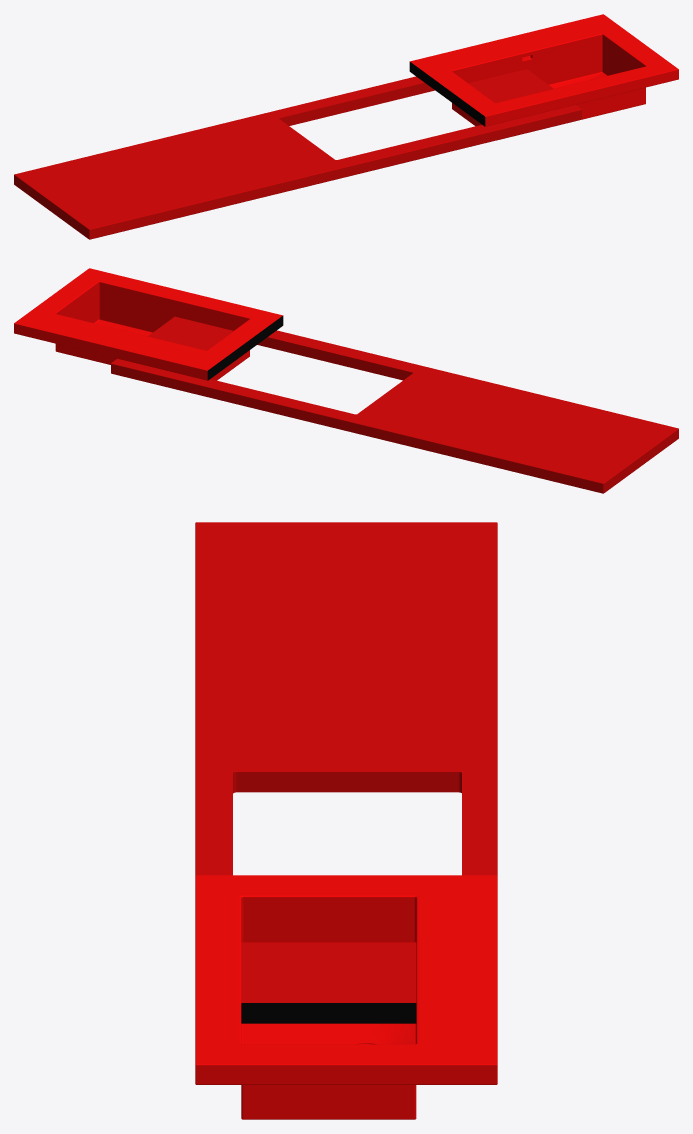
The model's file is SinkArea.dae.
The picture shows the model from 3 angles, top to bottom: view 1: azimuth 30°, elevation 25°; view 2: azimuth 150°, elevation 25°; view 3: azimuth 270°, elevation 25°; orthographic projection. The views are drawn at different scales.
Visible parts, largest first — view 1: HobSlabMESH, HobSlabMESH_001; view 2: HobSlabMESH, HobSlabMESH_001; view 3: HobSlabMESH, HobSlabMESH_001.
Part boxes in pixels (<box>): HobSlabMESH: <box>14,69,581,239</box>; HobSlabMESH_001: <box>409,14,678,126</box>; HobSlabMESH: <box>111,316,678,493</box>; HobSlabMESH_001: <box>14,268,283,380</box>; HobSlabMESH: <box>195,522,497,1023</box>; HobSlabMESH_001: <box>195,875,497,1119</box>.
Bounding box in the file's own units: 311 × 69.02 × 21.82.
